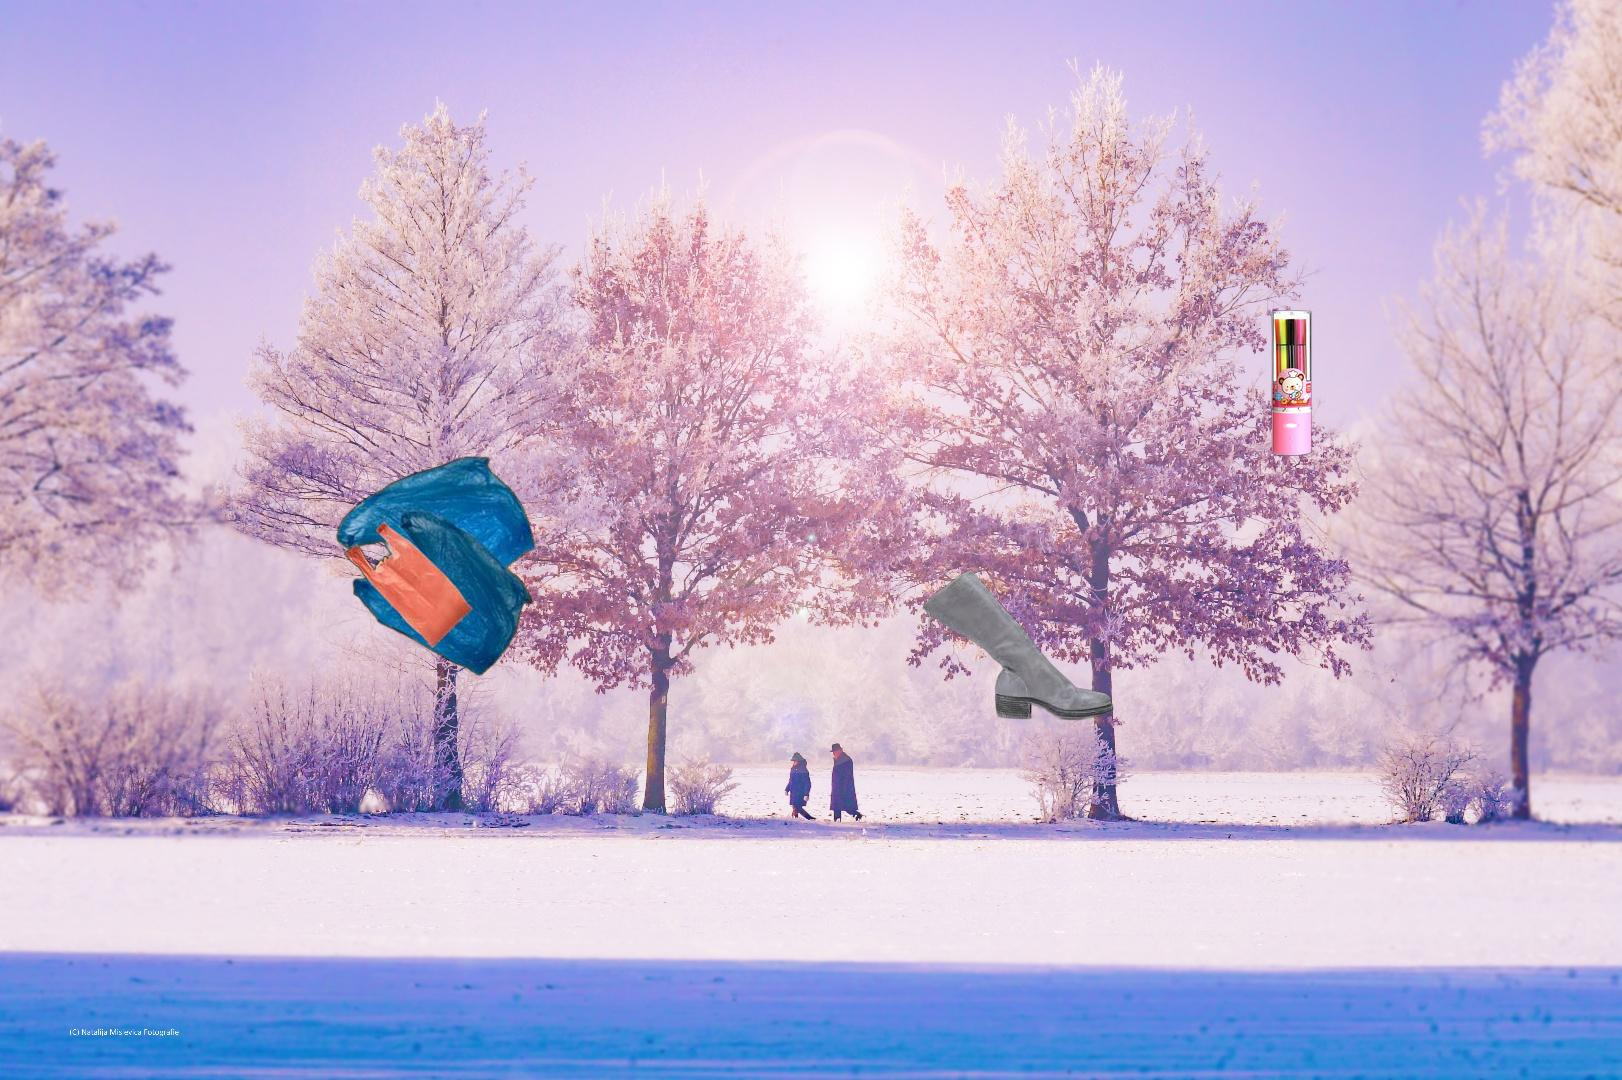penholder: (1269, 309, 1315, 459)
plastic-bag: (334, 454, 537, 677)
shoes: (922, 568, 1113, 723)
